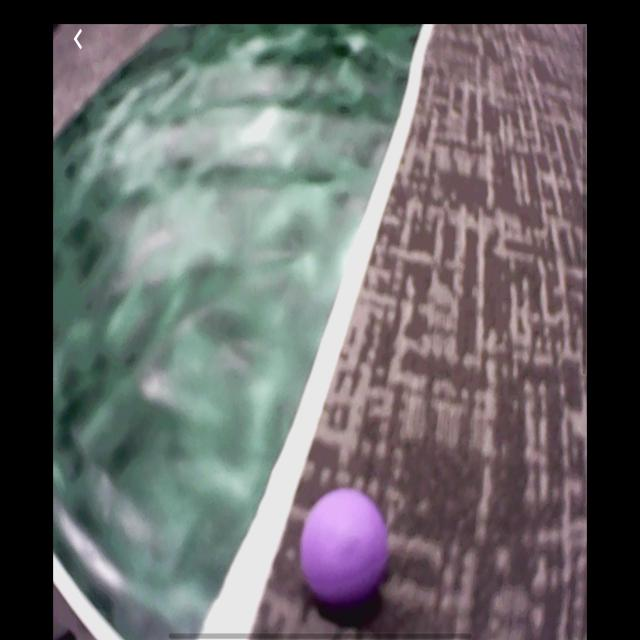ball: (305, 491, 386, 597)
